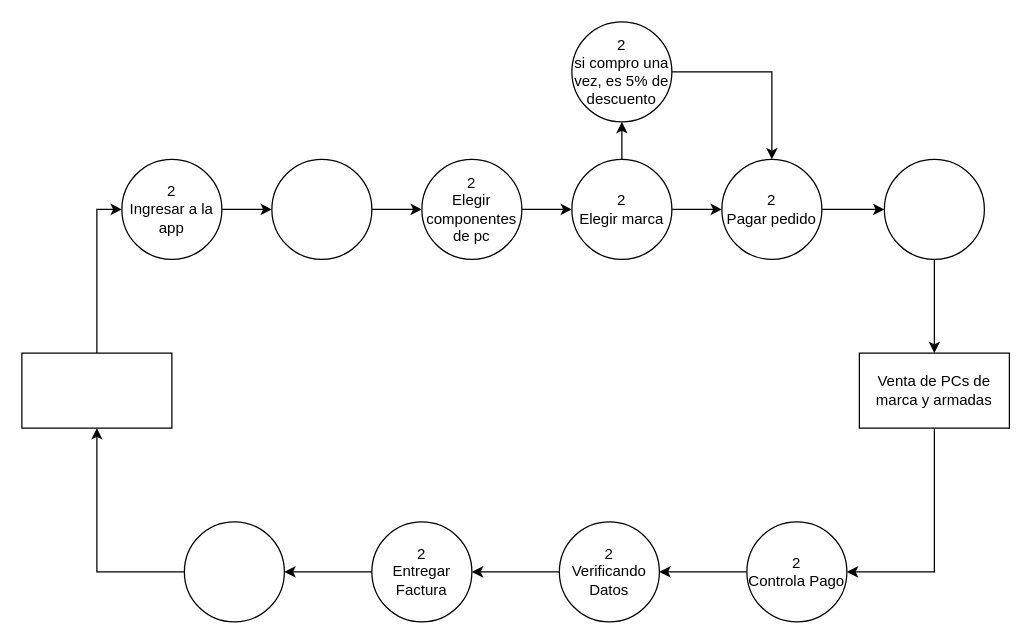
The diagram is 1031 pixels wide and 644 high, and some of its shapes have lost their labels. The box of each missing label's shape, as (x1, y1, x2, y2) in pixels:
2 Almacenar pedido: (883, 158, 984, 259)
2 Recibir pedido: (183, 521, 284, 622)
2 Se registra: (271, 158, 372, 259)
Cliente: (21, 352, 172, 428)
